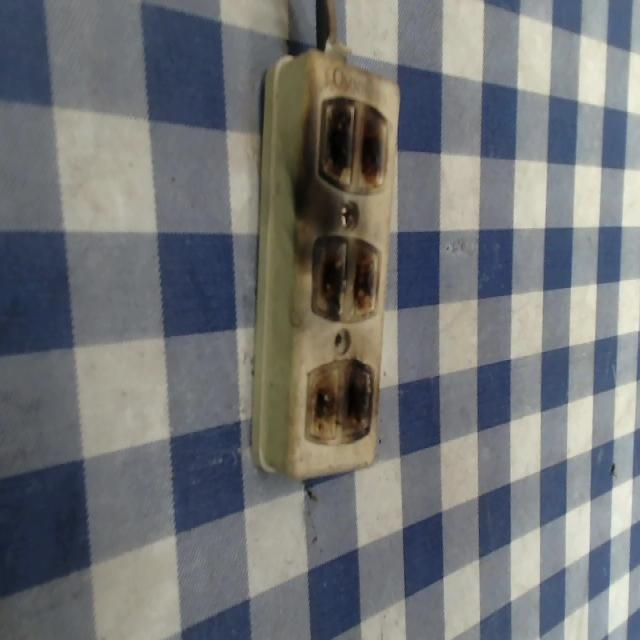-: (312, 90, 390, 198), (299, 354, 379, 442), (310, 229, 380, 323)
